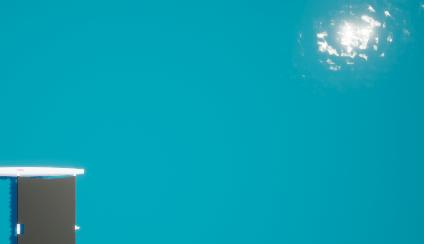boat: (0, 165, 88, 244)
drone: (18, 177, 75, 244)
land_base: (277, 1, 424, 84)
